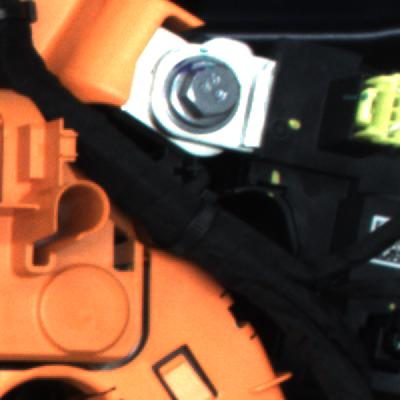nut_b: (156, 49, 276, 152)
